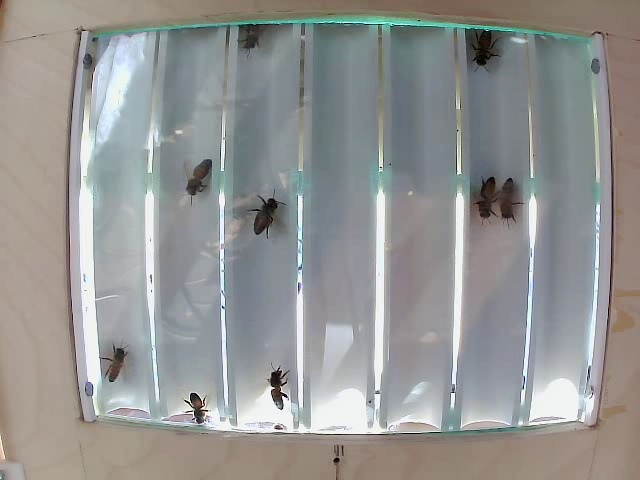bee: (258, 350, 300, 408), (463, 16, 501, 78), (250, 193, 292, 237), (176, 163, 218, 194), (495, 172, 516, 224), (470, 169, 490, 222), (105, 346, 135, 377), (182, 398, 218, 423)
